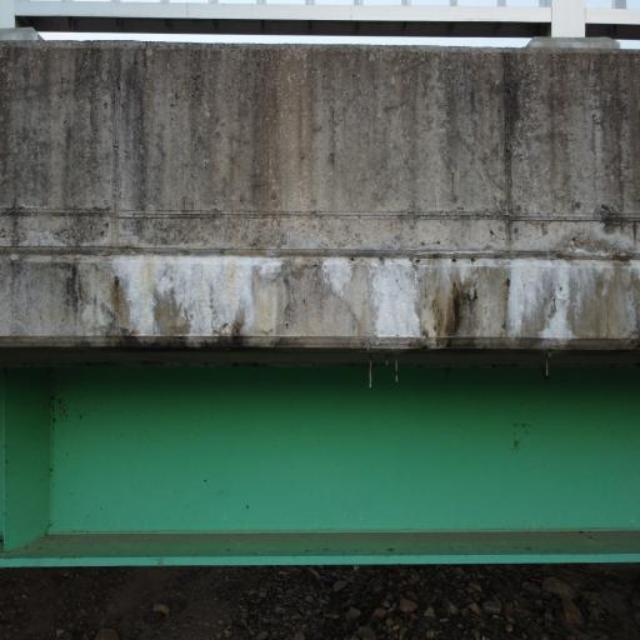D01: (114, 258, 285, 337), (374, 258, 425, 337)
